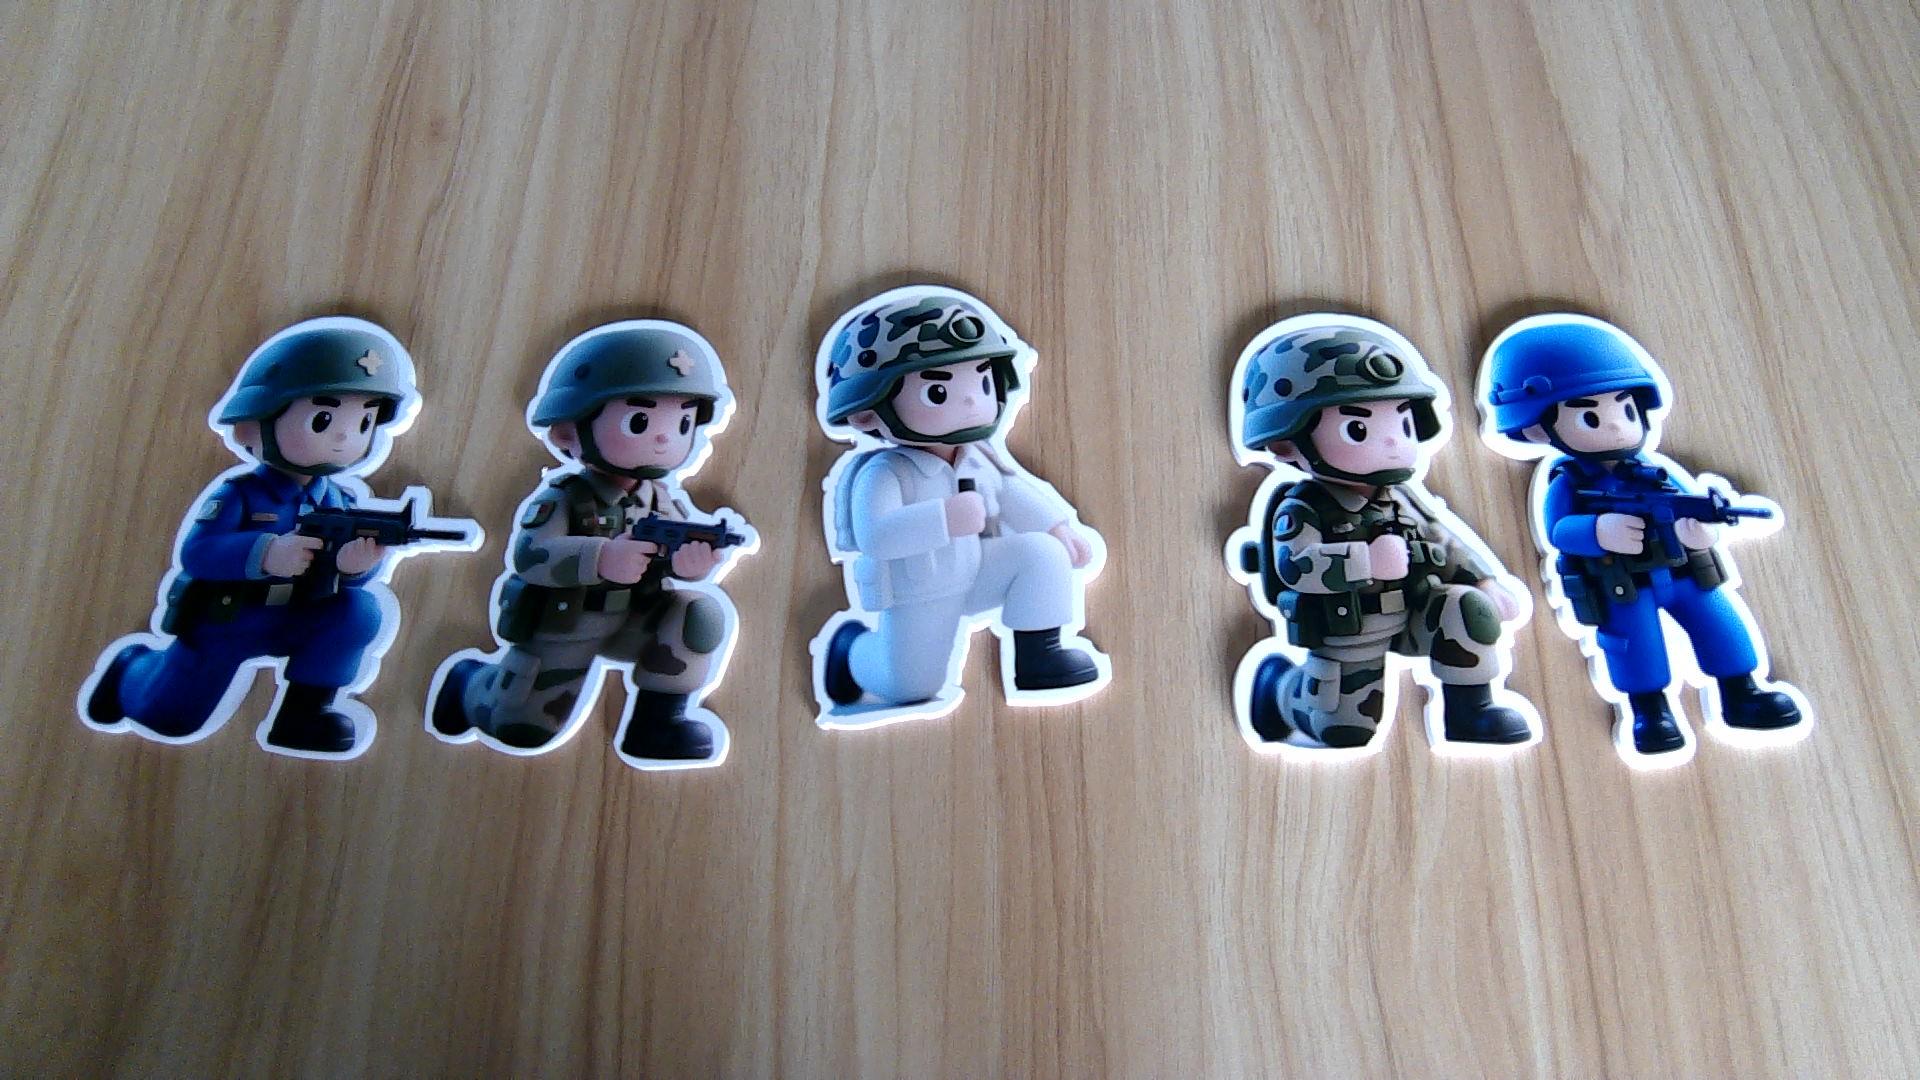人质: (796, 454, 1118, 729)
友军: (425, 483, 758, 774), (1217, 487, 1547, 760)
敌人2: (69, 477, 419, 765), (1520, 465, 1836, 774)
